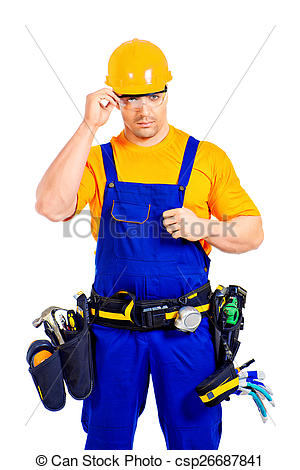Person_wearing_helmet: (104, 29, 181, 108)
